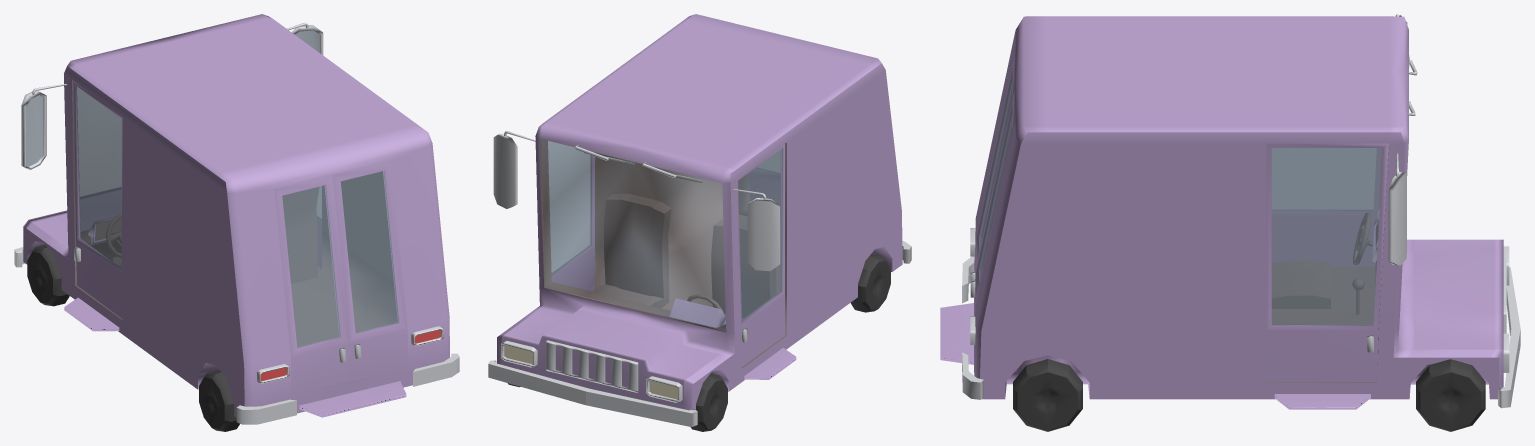
Rendered from KFB_CVP1_transporter.glb.
3 renders of one model, left to right at view 1: azimuth 30°, elevation 25°; view 2: azimuth 150°, elevation 25°; view 3: azimuth 270°, elevation 25°, orthographic. The views are drawn at different scales.
Parts seen in each view (by area): view 1: CarMesh, Interior, Window.4, Window.2, Window.3, DoorBackL, DoorBackR, DoorL, SeatR, Hood, BumperRear, MirrorCase (+6 smaller); view 2: CarMesh, WIndowFront.1, Interior, Hood, SeatR, Window, Window.2, BumperFront, DoorL, SeatL, MirrorCase, Grille (+9 smaller); view 3: CarMesh, Window, Hood, DoorR, Window.2, DoorL, WheelRR, WheelFR, Interior, SeatL, StepBac, MirrorCase.2 (+7 smaller).
Part boxes in pixels (bbox=[...]): CarMesh: bbox=[23, 14, 449, 417]; Interior: bbox=[70, 79, 397, 346]; Window.4: bbox=[282, 185, 341, 347]; Window.2: bbox=[74, 84, 121, 270]; Window.3: bbox=[341, 171, 399, 333]; DoorBackL: bbox=[274, 175, 349, 395]; DoorBackR: bbox=[333, 161, 408, 381]; DoorL: bbox=[72, 80, 122, 318]; SeatR: bbox=[282, 187, 318, 283]; Hood: bbox=[28, 187, 120, 247]; BumperRear: bbox=[236, 353, 459, 424]; MirrorCase: bbox=[21, 91, 46, 169]; CarMesh: bbox=[497, 14, 902, 410]; WIndowFront.1: bbox=[541, 139, 725, 331]; Interior: bbox=[540, 139, 786, 368]; Hood: bbox=[501, 310, 719, 404]; SeatR: bbox=[592, 193, 671, 308]; Window: bbox=[548, 141, 592, 274]; Window.2: bbox=[738, 148, 783, 321]; BumperFront: bbox=[488, 360, 697, 427]; DoorL: bbox=[737, 144, 785, 367]; SeatL: bbox=[711, 220, 775, 319]; MirrorCase: bbox=[747, 198, 780, 271]; Grille: bbox=[546, 340, 638, 392]; CarMesh: bbox=[974, 16, 1503, 399]; Window: bbox=[1271, 148, 1382, 325]; Hood: bbox=[1414, 239, 1503, 349]; DoorR: bbox=[1266, 143, 1388, 381]; Window.2: bbox=[1272, 148, 1376, 210]; DoorL: bbox=[1272, 148, 1381, 266]; WheelRR: bbox=[1013, 359, 1082, 431]; WheelFR: bbox=[1416, 359, 1485, 431]; Interior: bbox=[982, 97, 1388, 382]; SeatL: bbox=[1272, 261, 1330, 308]; StepBac: bbox=[940, 303, 973, 364]; MirrorCase.2: bbox=[1388, 171, 1406, 265].
Bounding box in the file's own units: 2.93 × 2.39 × 4.17.
